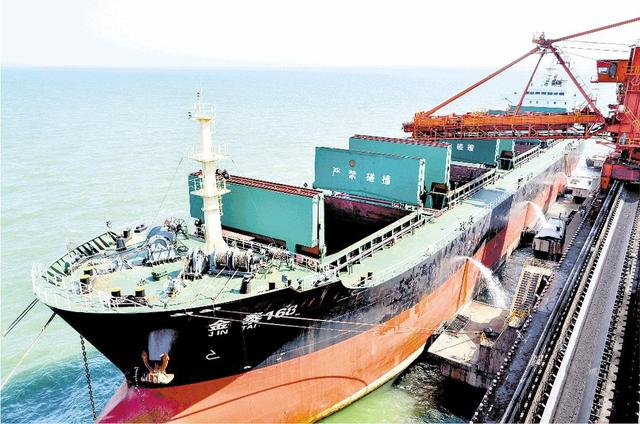Cargoship: (27, 52, 604, 404)
